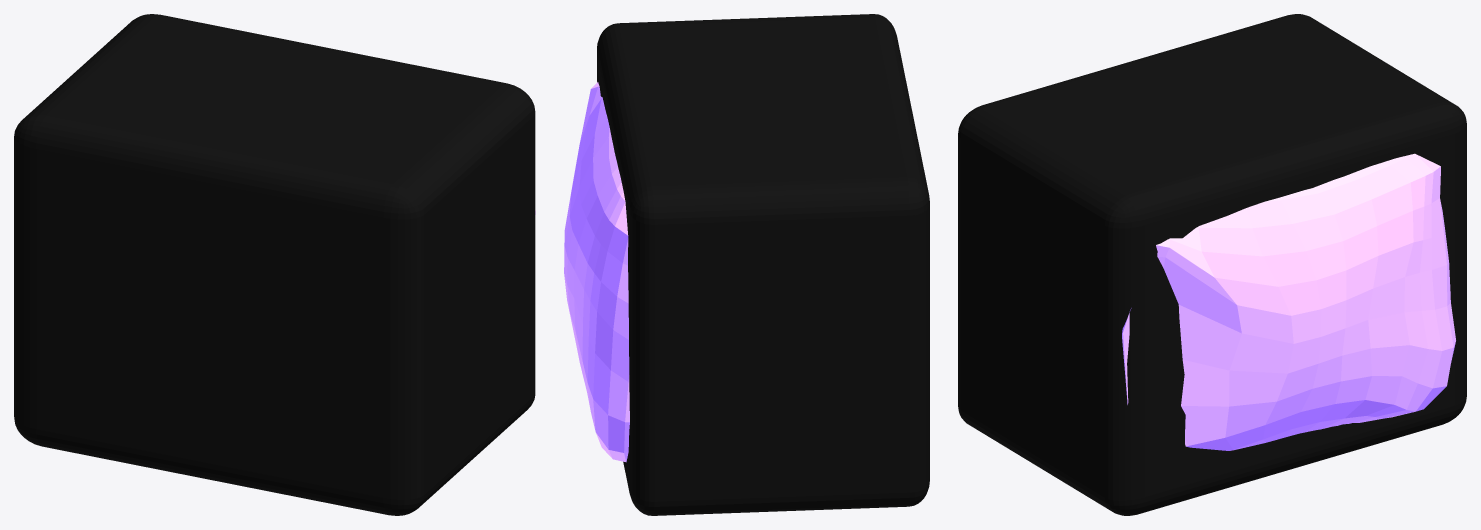
File: brokenTV(Kiwi).fbx
3 renders of one model, left to right at view 1: azimuth 30°, elevation 25°; view 2: azimuth 150°, elevation 25°; view 3: azimuth 270°, elevation 25°, orthographic. The views are drawn at different scales.
Visible parts, largest first — view 1: 立方体.006; view 2: 立方体.006, 球体.002; view 3: 立方体.006, 球体.002.
Part boxes in pixels (box(x1,y1,x2,y2)): 立方体.006: box(14, 14, 535, 515); 立方体.006: box(597, 14, 929, 515); 球体.002: box(564, 82, 629, 462); 立方体.006: box(958, 14, 1466, 515); 球体.002: box(1122, 153, 1455, 450).
Bounding box in the file's own units: 160 × 119 × 171.
